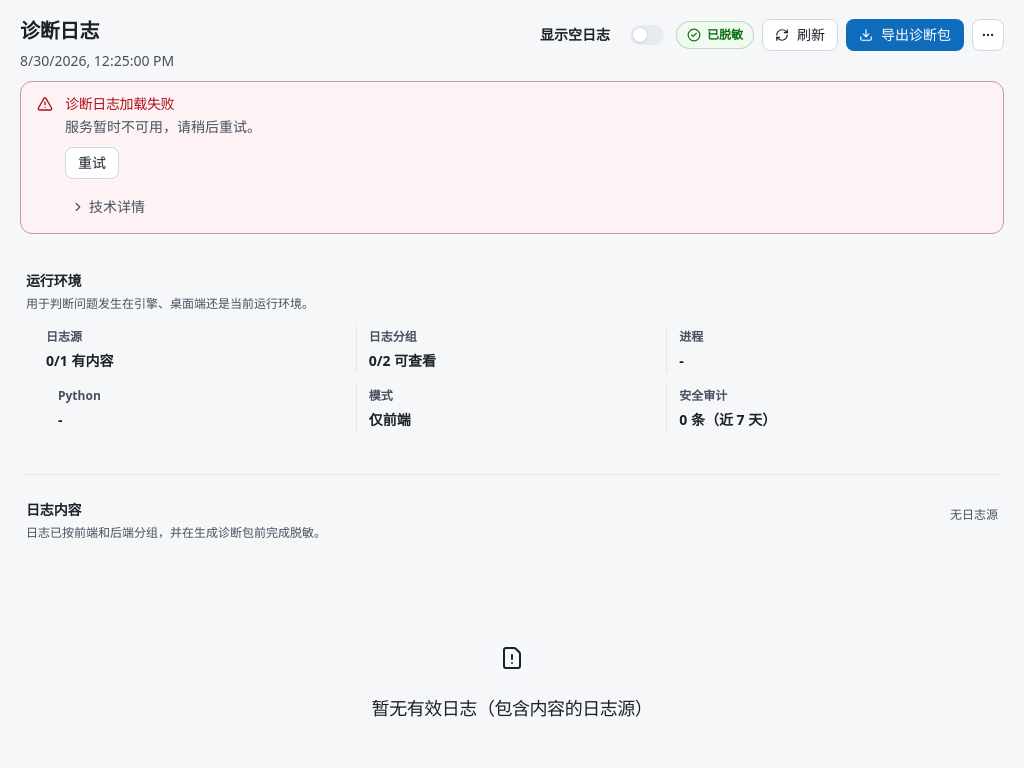
Test: DiagnosticsPage log viewer › keeps a load failure on the diagnostics surface and exposes only safe correlation metadata
Expected: the message shows "诊断日志加载失败", [65, 94, 174, 113]
Click the heading "技术详情": [108, 207] box [65, 193, 151, 221]
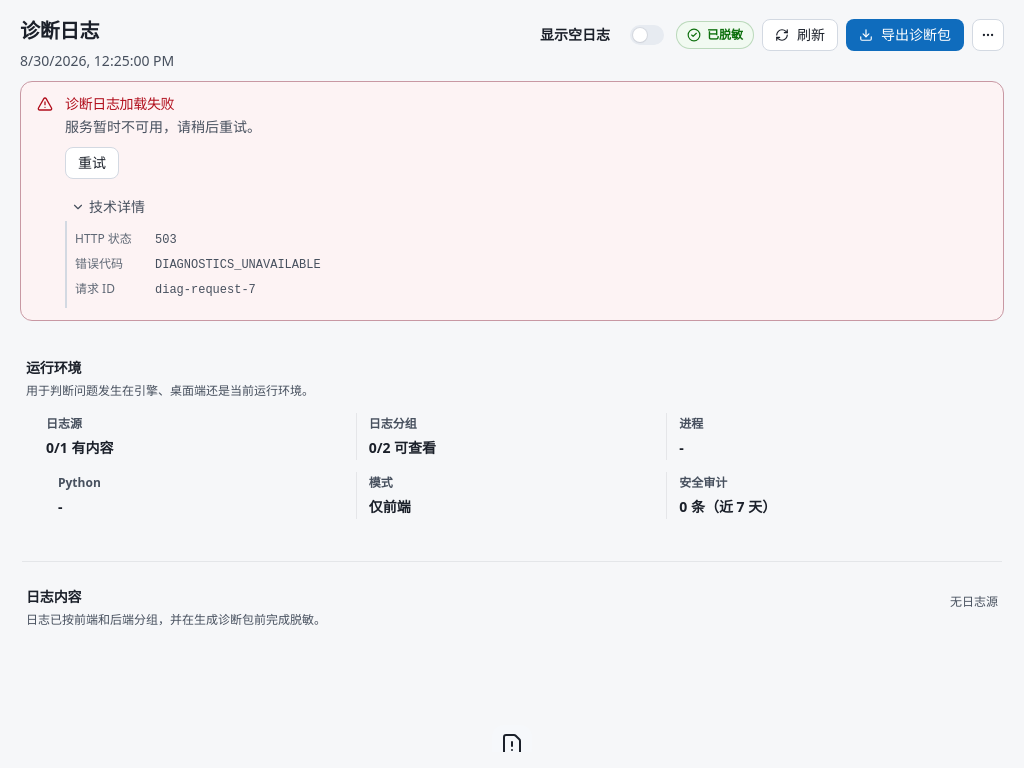
Result: the text "DIAGNOSTICS_UNAVAILABLE" is shown at [155, 258, 321, 272]
Result: the text "diag-request-7" is shown at [155, 283, 256, 297]
